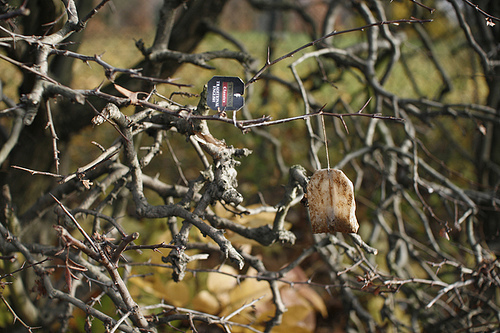litter: (305, 168, 359, 234), (204, 74, 244, 111)
